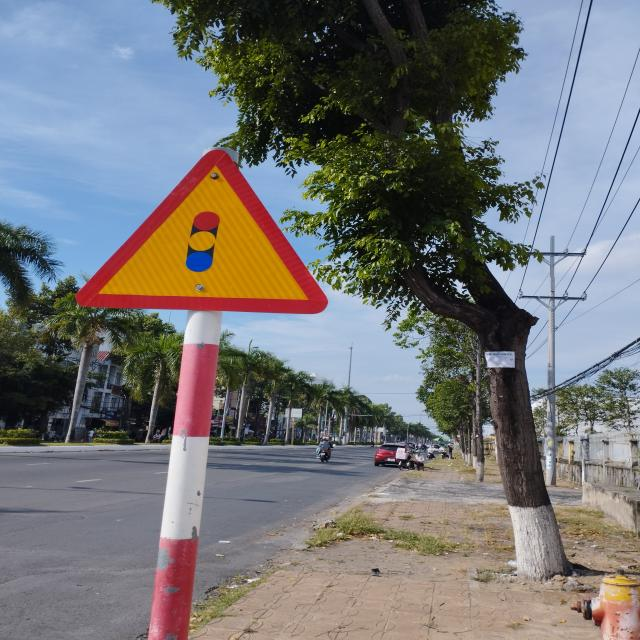Duong_Co_Go_Giam_Toc: (76, 151, 326, 313)
